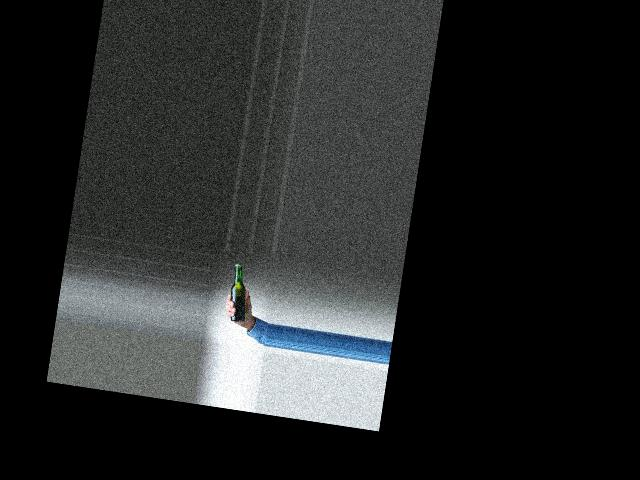beer: (226, 263, 253, 323)
